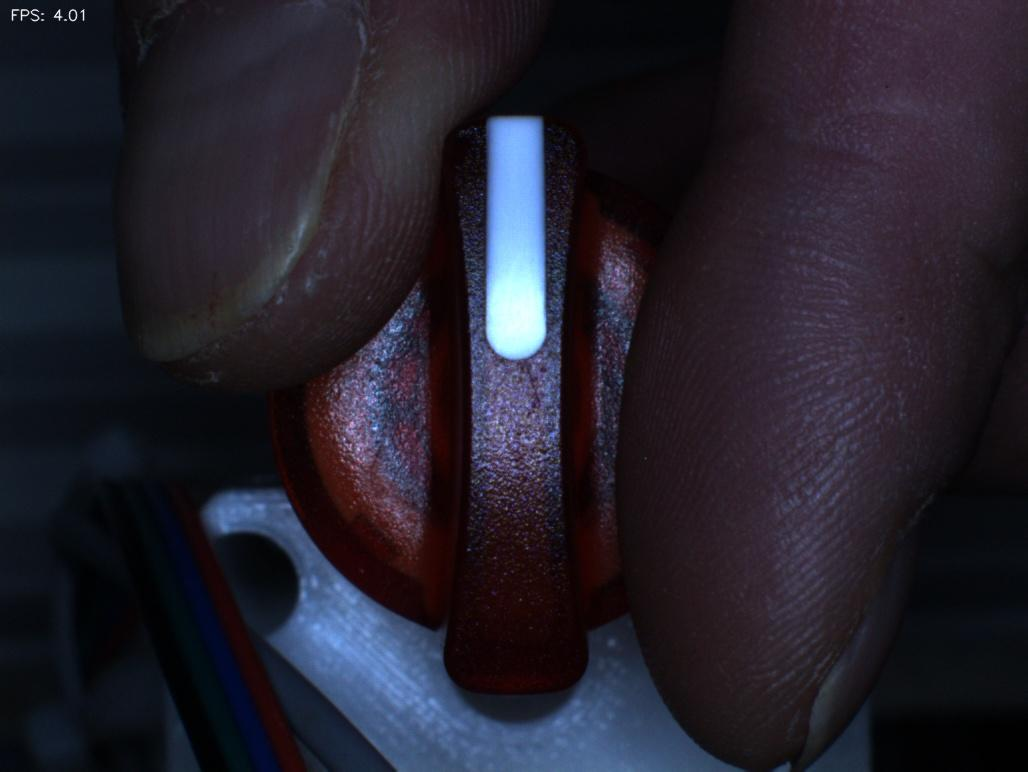Choc: (411, 100, 503, 187)
